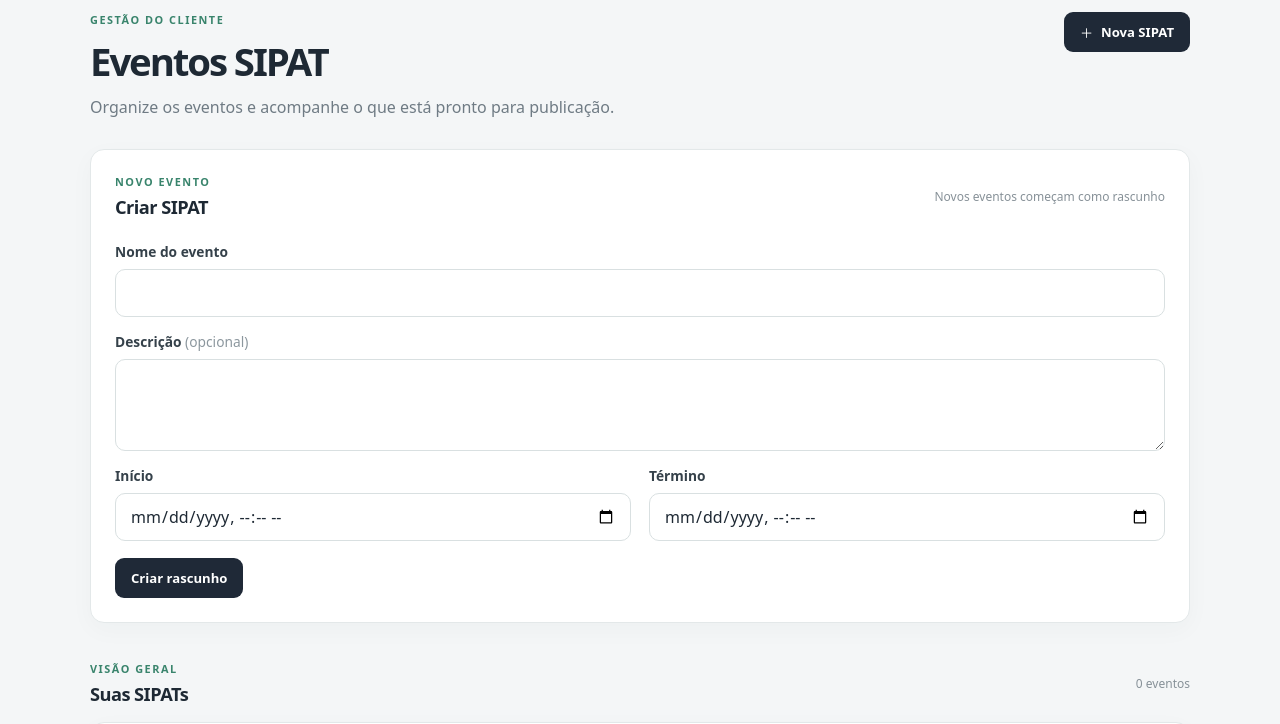
Test: SIPAT event administration › creates a SIPAT after validating the period and sends UTC instants
This screenshot has width=1280, height=724.
Type "Nova SIPAT" into the field labelled "Nome do evento" at (640, 293), box [115,269,1165,317]
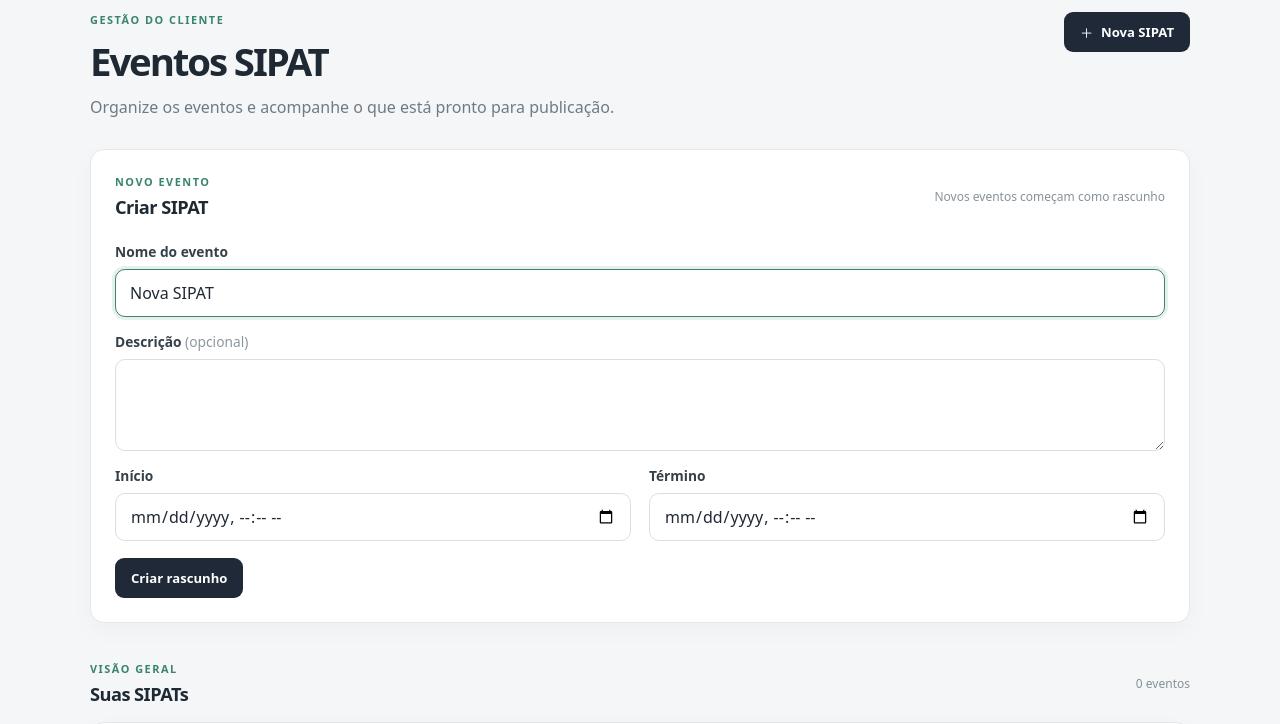
Type "Prevenção e saúde" into the text box labelled "Descrição (opcional)" at (640, 405), box [115,359,1165,451]
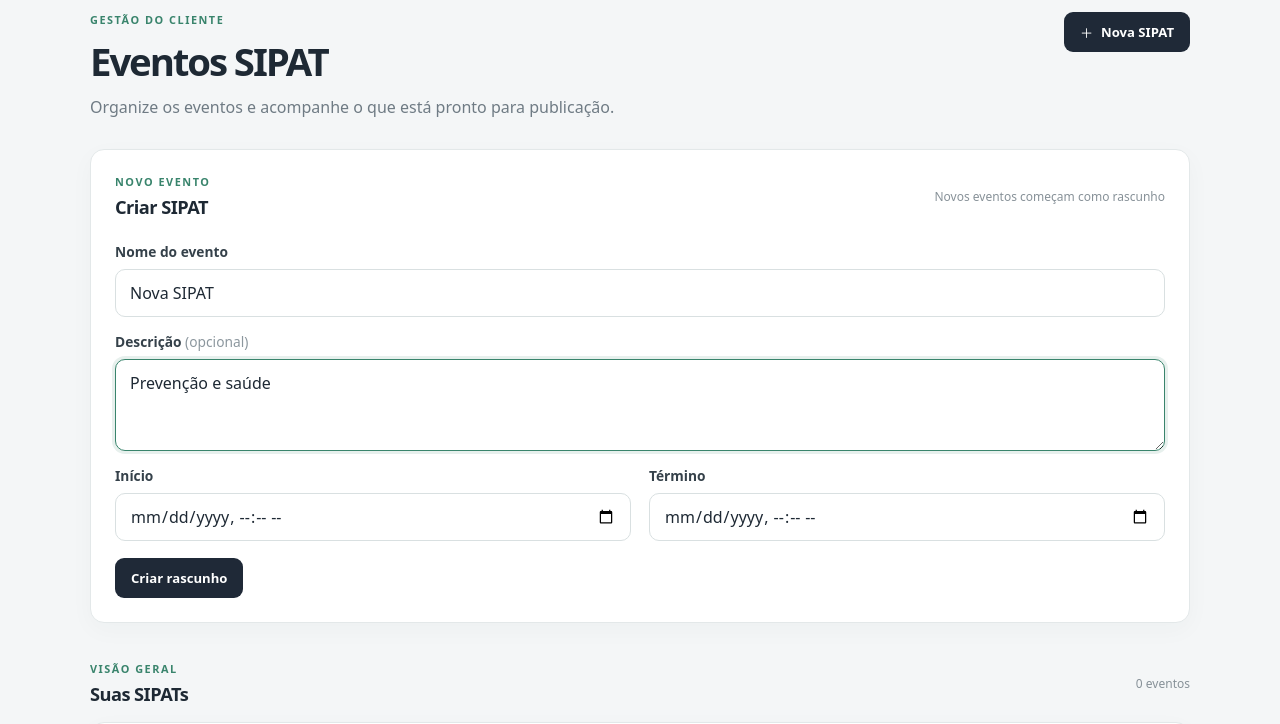
Type "2026-11-01T09:00" into the field labelled "Início" at (373, 517), box [115,493,631,541]
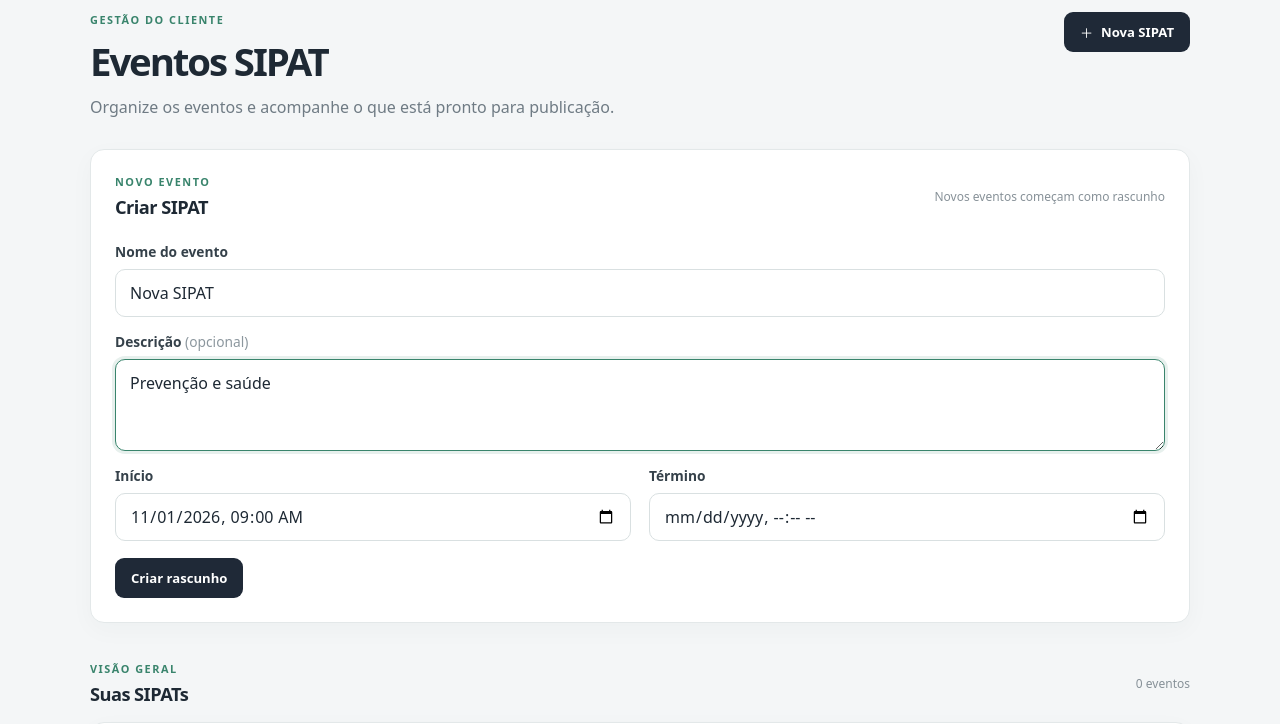
Type "2026-11-01T10:30" into the field labelled "Término" at (907, 517), box [649,493,1165,541]
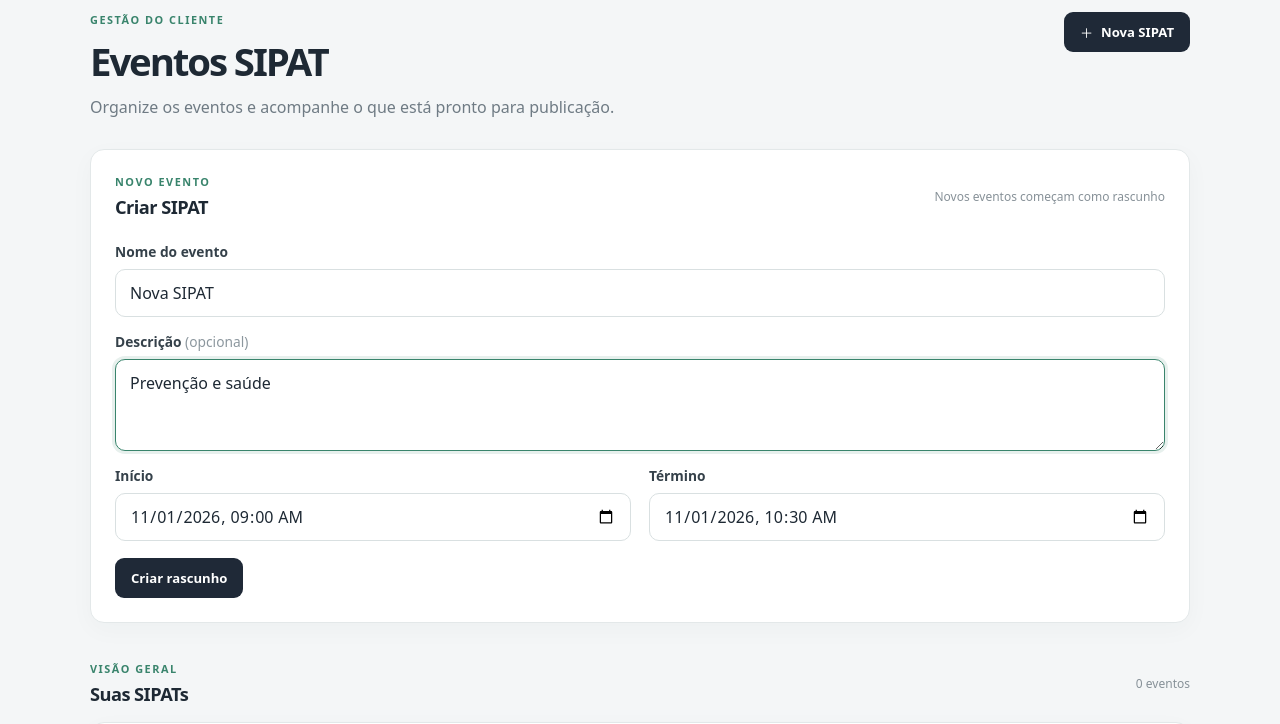
Click the button "Criar rascunho" at (179, 578), box [115,558,243,598]
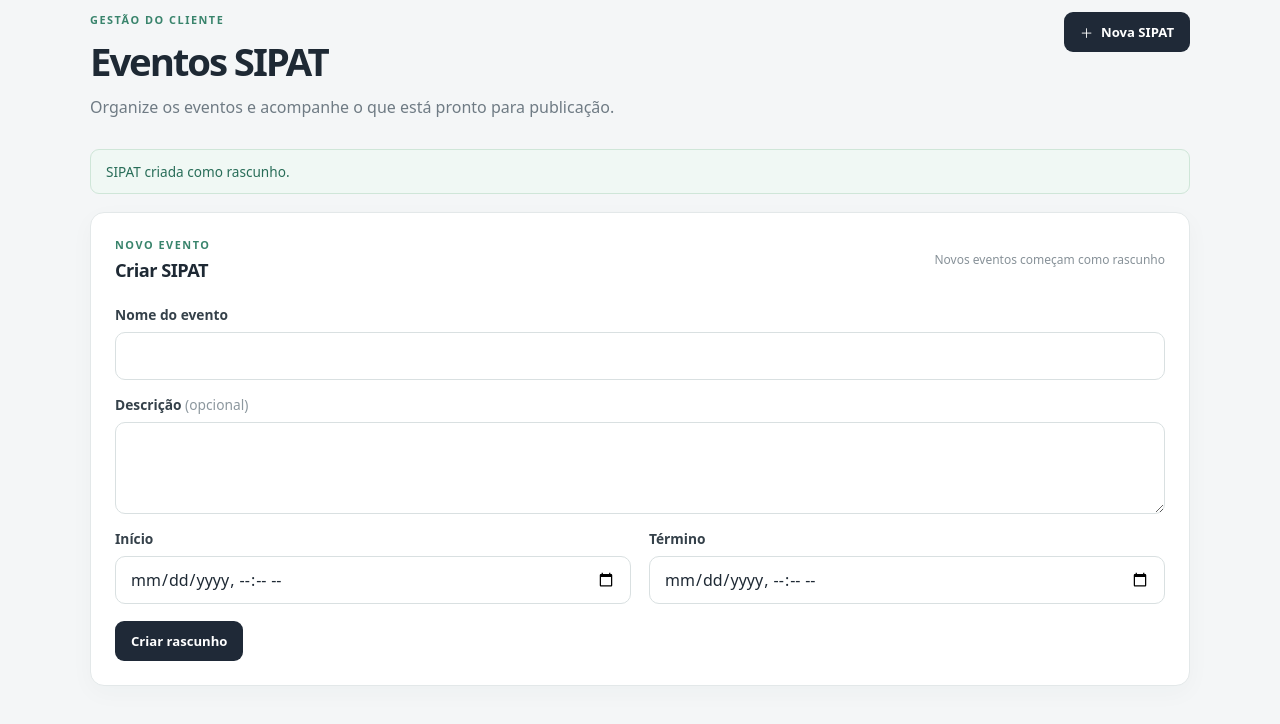
Check: the text "SIPAT criada como rascunho." is shown, box [90,149,1190,194]
